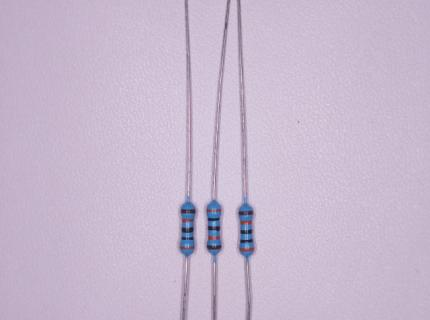Black band: (181, 226, 194, 233), (208, 225, 220, 231), (241, 229, 253, 235), (240, 239, 253, 244), (181, 237, 194, 241), (208, 218, 220, 222)
Brown band: (238, 210, 254, 216), (206, 244, 222, 249), (180, 209, 195, 214)
Orange band: (240, 220, 253, 225), (206, 208, 222, 212), (180, 246, 195, 250), (239, 247, 254, 251), (208, 235, 220, 240), (181, 219, 194, 223)
